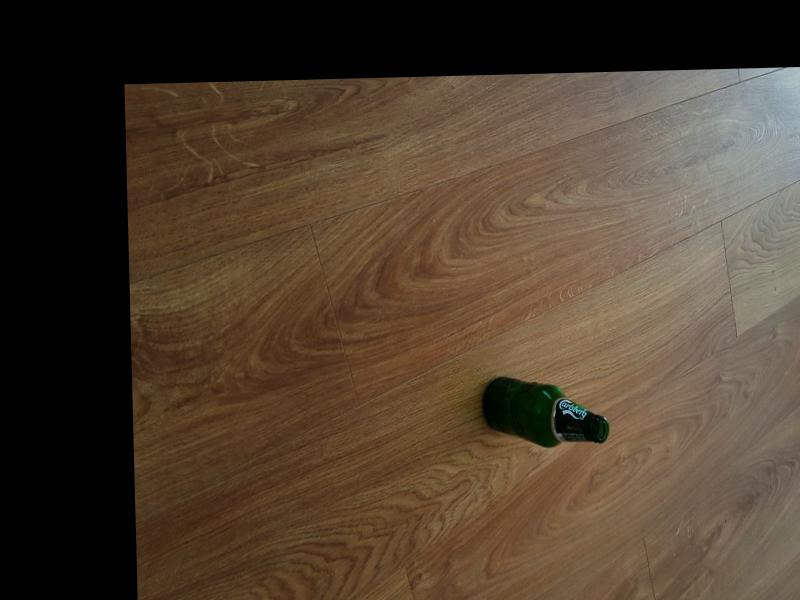Beer: (481, 373, 611, 449)
